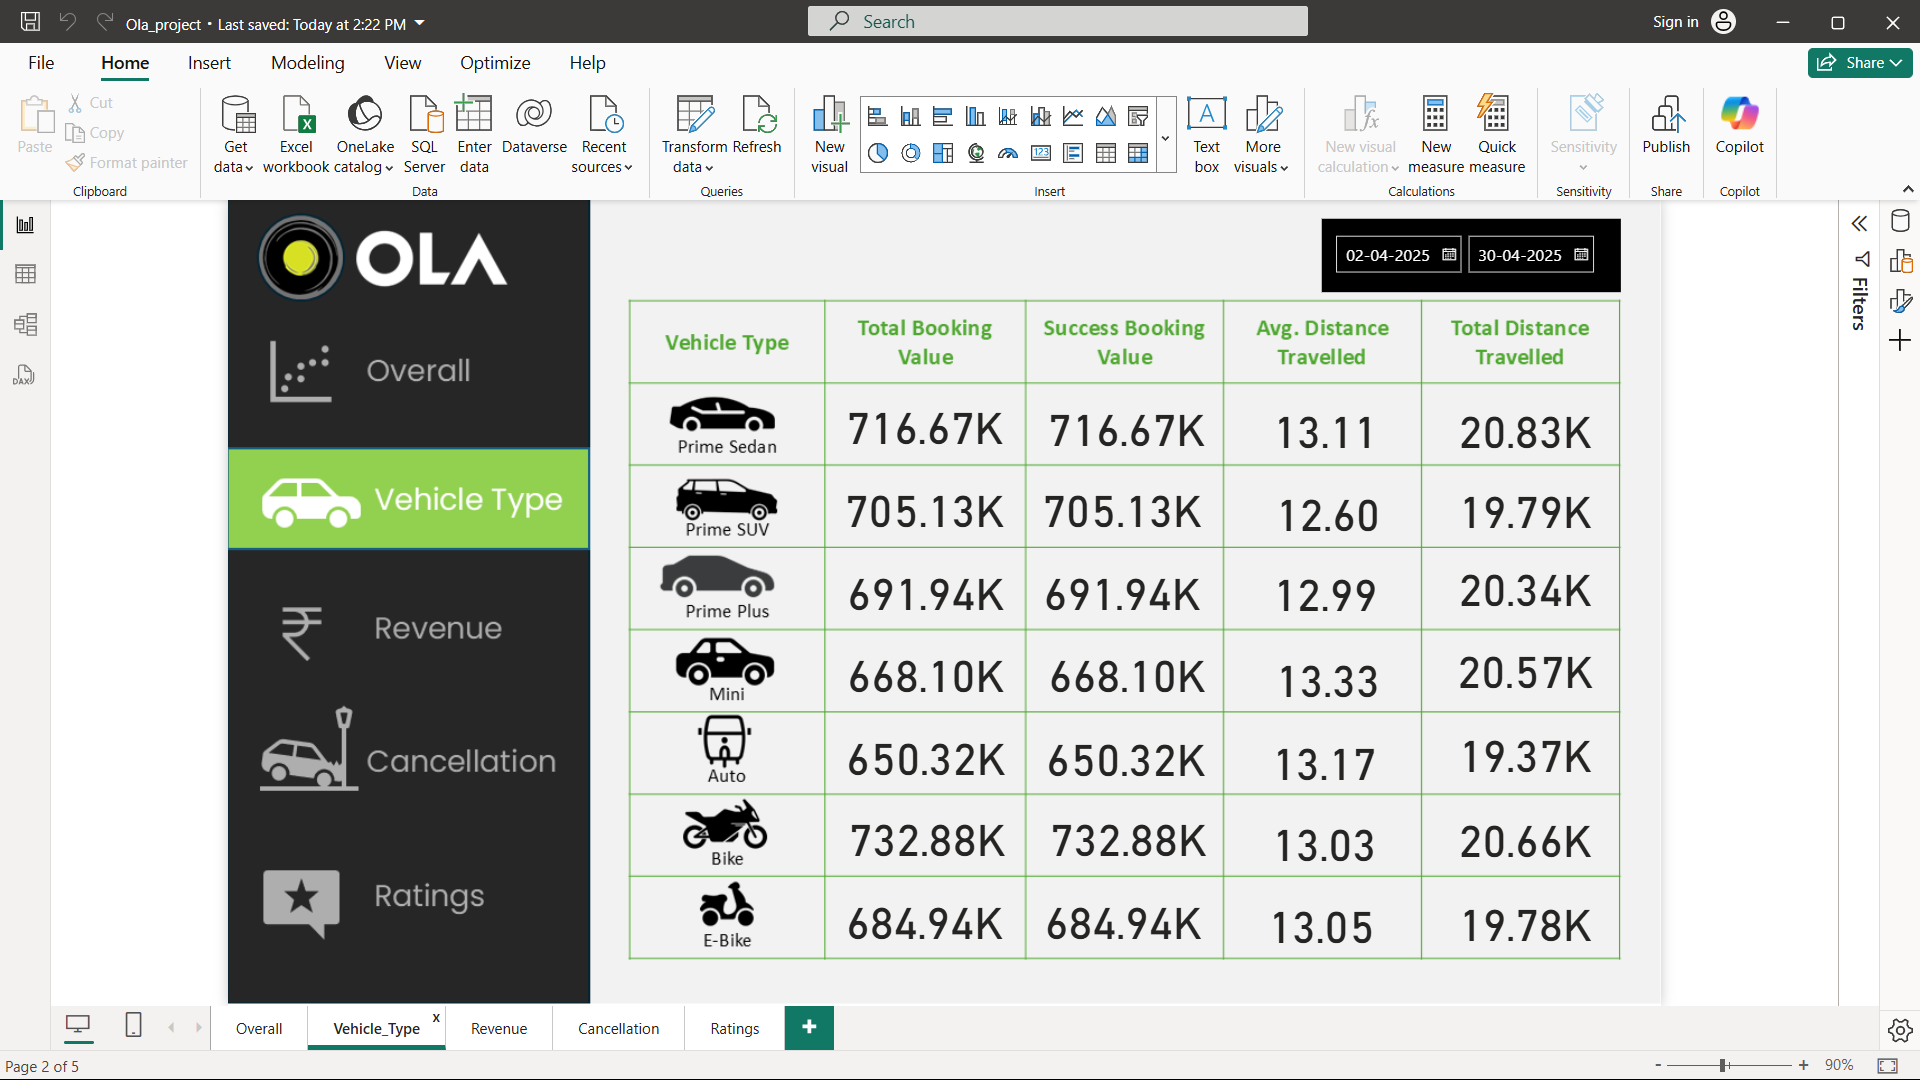

What the dashboard file says about the page in this screenshot:
{"tool":"powerbi","page":{"name":"Vehicle_Type","canvas":[1280,720],"ordinal":1},"visuals":[{"type":"actionButton","box":[0,110.9,324.3,91],"z":0},{"type":"actionButton","box":[0,219,324.3,103.8],"z":1000},{"type":"actionButton","box":[0,322.8,324.3,103.8],"z":2000},{"type":"actionButton","box":[0,426.7,324.3,128],"z":3000},{"type":"actionButton","box":[0,554.7,324.3,165],"z":4000},{"type":"card","fields":{"Values":["Sum(ahmedabad_booking_data.Booking_Value)"]},"box":[533.3,167.8,177.8,65.4],"z":5000},{"type":"card","fields":{"Values":["Sum(ahmedabad_booking_data.Booking_Value)"]},"box":[533.2,237.7,177.3,73.6],"z":6000},{"type":"card","fields":{"Values":["Sum(ahmedabad_booking_data.Booking_Value)"]},"box":[534.5,311.3,177.3,73.6],"z":7000},{"type":"card","fields":{"Values":["Sum(ahmedabad_booking_data.Booking_Value)"]},"box":[534.5,384.9,177.3,73.6],"z":8000},{"type":"card","fields":{"Values":["Sum(ahmedabad_booking_data.Booking_Value)"]},"box":[534.5,458.4,177.3,73.6],"z":9000},{"type":"card","fields":{"Values":["Sum(ahmedabad_booking_data.Booking_Value)"]},"box":[535.7,532,177.3,73.6],"z":10000},{"type":"card","fields":{"Values":["Sum(ahmedabad_booking_data.Booking_Value)"]},"box":[533.2,605.6,177.3,73.6],"z":11000},{"type":"card","fields":{"Values":["Sum(ahmedabad_booking_data.Booking_Value)"]},"box":[713,168.9,178.6,66.4],"z":12000},{"type":"card","fields":{"Values":["Sum(ahmedabad_booking_data.Booking_Value)"]},"box":[710.6,237.7,177.3,73.6],"z":13000},{"type":"card","fields":{"Values":["Sum(ahmedabad_booking_data.Booking_Value)"]},"box":[710.6,311.3,177.3,73.6],"z":14000},{"type":"card","fields":{"Values":["Sum(ahmedabad_booking_data.Booking_Value)"]},"box":[714.2,384.9,177.3,73.6],"z":15000},{"type":"card","fields":{"Values":["Sum(ahmedabad_booking_data.Booking_Value)"]},"box":[713,459.7,177.3,73.6],"z":16000},{"type":"card","fields":{"Values":["Sum(ahmedabad_booking_data.Booking_Value)"]},"box":[715.4,532,177.3,73.6],"z":17000},{"type":"card","fields":{"Values":["Sum(ahmedabad_booking_data.Booking_Value)"]},"box":[711.8,605.6,177.3,73.6],"z":18000},{"type":"card","fields":{"Values":["Avg(ahmedabad_booking_data.Ride_Distance)"]},"box":[891.6,171.3,178.6,66.4],"z":19000},{"type":"card","fields":{"Values":["Sum(ahmedabad_booking_data.Ride_Distance)"]},"box":[1070.1,171.3,178.6,66.4],"z":20000},{"type":"card","fields":{"Values":["Sum(ahmedabad_booking_data.Ride_Distance)"]},"box":[1070.1,242.5,178.6,66.4],"z":21000},{"type":"card","fields":{"Values":["Sum(ahmedabad_booking_data.Ride_Distance)"]},"box":[1070.1,311.3,178.6,66.4],"z":22000},{"type":"card","fields":{"Values":["Sum(ahmedabad_booking_data.Ride_Distance)"]},"box":[1070.1,384.9,178.6,66.4],"z":23000},{"type":"card","fields":{"Values":["Sum(ahmedabad_booking_data.Ride_Distance)"]},"box":[1070.1,459.7,178.6,66.4],"z":24000},{"type":"card","fields":{"Values":["Sum(ahmedabad_booking_data.Ride_Distance)"]},"box":[1070.1,535.7,178.6,66.4],"z":25000},{"type":"card","fields":{"Values":["Sum(ahmedabad_booking_data.Ride_Distance)"]},"box":[1070.1,610.5,178.6,66.4],"z":26000},{"type":"card","fields":{"Values":["Avg(ahmedabad_booking_data.Ride_Distance)"]},"box":[887.9,612.9,178.6,66.4],"z":27000},{"type":"card","fields":{"Values":["Avg(ahmedabad_booking_data.Ride_Distance)"]},"box":[890.4,539.3,178.6,66.4],"z":28000},{"type":"card","fields":{"Values":["Avg(ahmedabad_booking_data.Ride_Distance)"]},"box":[890.4,466.9,178.6,66.4],"z":29000},{"type":"card","fields":{"Values":["Avg(ahmedabad_booking_data.Ride_Distance)"]},"box":[892.8,393.3,178.6,66.4],"z":30000},{"type":"card","fields":{"Values":["Avg(ahmedabad_booking_data.Ride_Distance)"]},"box":[891.6,316.1,178.6,66.4],"z":31000},{"type":"card","fields":{"Values":["Avg(ahmedabad_booking_data.Ride_Distance)"]},"box":[892.8,244.9,178.6,66.4],"z":32000},{"type":"slicer","title":"Date","fields":{"Values":["ahmedabad_booking_data.Date"]},"box":[977.1,17.1,267.1,65.7],"z":33000}]}

Visuals, with their boxes on the page's 1280x720 design canvas (x1, y1, x2, y2). These are canvas units, not pixel positions in the 1920x1080 screenshot, which may show the page scaled, cropped or inside an application window:
actionButton: locate(0, 111, 324, 202)
actionButton: locate(0, 219, 324, 323)
actionButton: locate(0, 323, 324, 427)
actionButton: locate(0, 427, 324, 555)
actionButton: locate(0, 555, 324, 720)
card - Sum(ahmedabad_booking_data.Booking_Value): locate(533, 168, 711, 233)
card - Sum(ahmedabad_booking_data.Booking_Value): locate(533, 238, 710, 311)
card - Sum(ahmedabad_booking_data.Booking_Value): locate(534, 311, 712, 385)
card - Sum(ahmedabad_booking_data.Booking_Value): locate(534, 385, 712, 458)
card - Sum(ahmedabad_booking_data.Booking_Value): locate(534, 458, 712, 532)
card - Sum(ahmedabad_booking_data.Booking_Value): locate(536, 532, 713, 606)
card - Sum(ahmedabad_booking_data.Booking_Value): locate(533, 606, 710, 679)
card - Sum(ahmedabad_booking_data.Booking_Value): locate(713, 169, 892, 235)
card - Sum(ahmedabad_booking_data.Booking_Value): locate(711, 238, 888, 311)
card - Sum(ahmedabad_booking_data.Booking_Value): locate(711, 311, 888, 385)
card - Sum(ahmedabad_booking_data.Booking_Value): locate(714, 385, 892, 458)
card - Sum(ahmedabad_booking_data.Booking_Value): locate(713, 460, 890, 533)
card - Sum(ahmedabad_booking_data.Booking_Value): locate(715, 532, 893, 606)
card - Sum(ahmedabad_booking_data.Booking_Value): locate(712, 606, 889, 679)
card - Avg(ahmedabad_booking_data.Ride_Distance): locate(892, 171, 1070, 238)
card - Sum(ahmedabad_booking_data.Ride_Distance): locate(1070, 171, 1249, 238)
card - Sum(ahmedabad_booking_data.Ride_Distance): locate(1070, 242, 1249, 309)
card - Sum(ahmedabad_booking_data.Ride_Distance): locate(1070, 311, 1249, 378)
card - Sum(ahmedabad_booking_data.Ride_Distance): locate(1070, 385, 1249, 451)
card - Sum(ahmedabad_booking_data.Ride_Distance): locate(1070, 460, 1249, 526)
card - Sum(ahmedabad_booking_data.Ride_Distance): locate(1070, 536, 1249, 602)
card - Sum(ahmedabad_booking_data.Ride_Distance): locate(1070, 610, 1249, 677)
card - Avg(ahmedabad_booking_data.Ride_Distance): locate(888, 613, 1066, 679)
card - Avg(ahmedabad_booking_data.Ride_Distance): locate(890, 539, 1069, 606)
card - Avg(ahmedabad_booking_data.Ride_Distance): locate(890, 467, 1069, 533)
card - Avg(ahmedabad_booking_data.Ride_Distance): locate(893, 393, 1071, 460)
card - Avg(ahmedabad_booking_data.Ride_Distance): locate(892, 316, 1070, 382)
card - Avg(ahmedabad_booking_data.Ride_Distance): locate(893, 245, 1071, 311)
"Date" slicer: locate(977, 17, 1244, 83)
